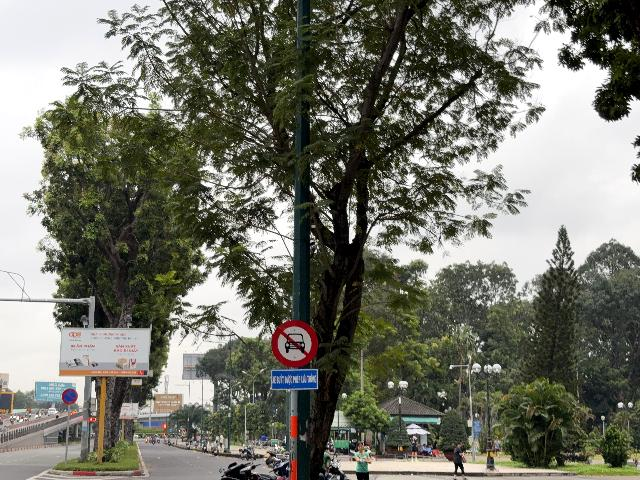cam-o-to: (271, 320, 317, 368)
